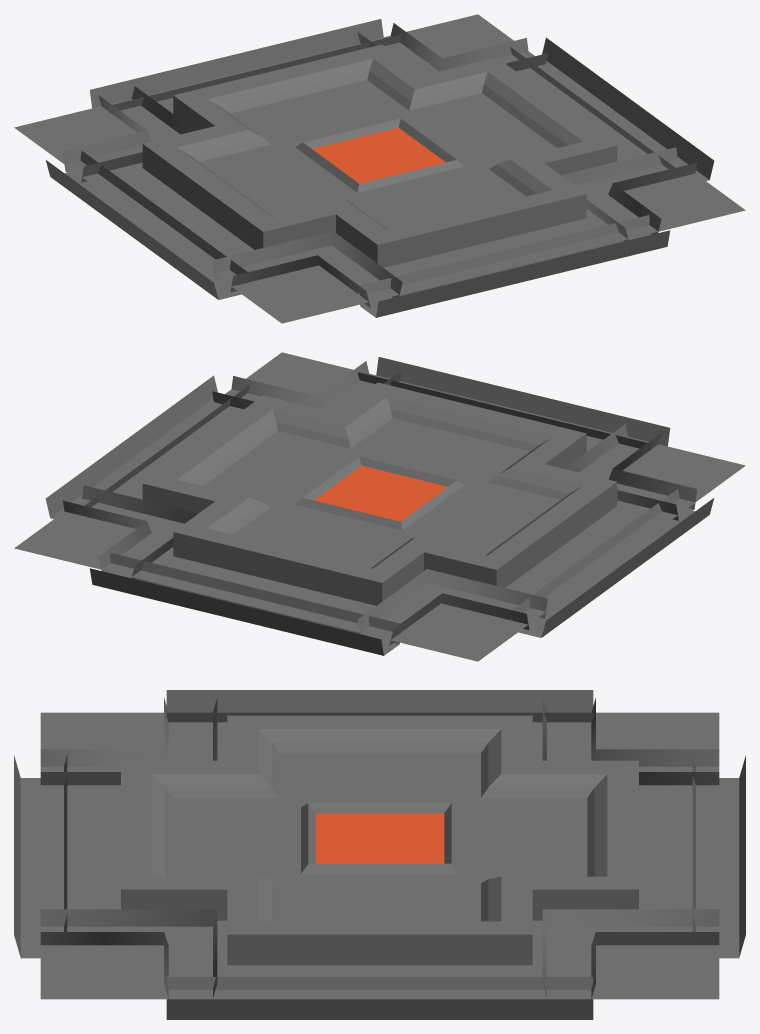
Rendered from CeilingB.FBX.
The picture shows the model from 3 angles, top to bottom: view 1: azimuth 30°, elevation 25°; view 2: azimuth 150°, elevation 25°; view 3: azimuth 270°, elevation 25°; orthographic projection. The views are drawn at different scales.
Parts seen in each view (by area): view 1: CeilingB; view 2: CeilingB; view 3: CeilingB.
Part boxes in pixels (bbox=[...]): CeilingB: bbox=[14, 14, 745, 323]; CeilingB: bbox=[14, 352, 745, 661]; CeilingB: bbox=[14, 690, 745, 1019].
Size of the model in its own units: 216 by 13.95 by 216.
